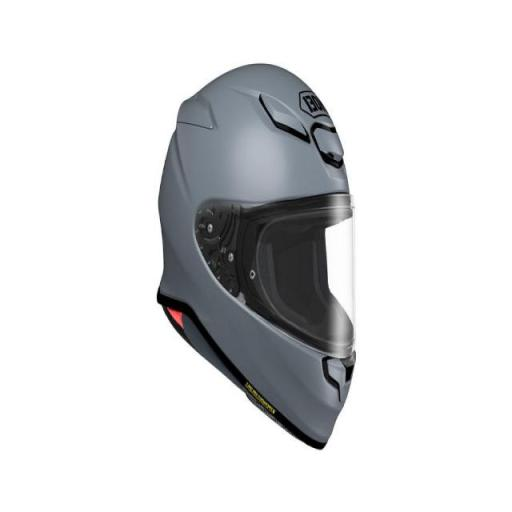Helmet: (158, 65, 355, 447)
